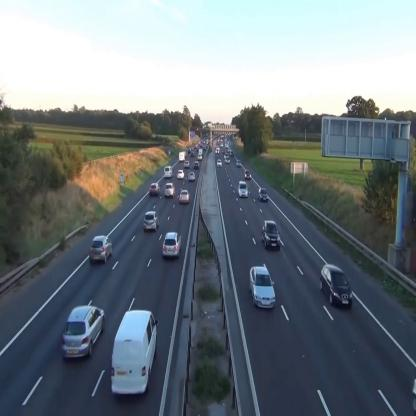car: (63, 306, 106, 358), (320, 264, 353, 308), (249, 266, 276, 309), (90, 236, 113, 263), (261, 220, 281, 250), (162, 232, 181, 258), (144, 212, 159, 232), (238, 180, 248, 197), (165, 182, 175, 198), (179, 190, 190, 203), (150, 182, 160, 196), (258, 188, 268, 202), (164, 166, 172, 178), (178, 168, 184, 180), (244, 169, 251, 179), (188, 172, 195, 180), (179, 152, 184, 161), (217, 159, 222, 167), (225, 156, 230, 164), (236, 159, 241, 167), (184, 160, 189, 166), (194, 161, 199, 167), (198, 154, 202, 160), (191, 150, 194, 157)
lorry: (112, 310, 158, 395)
